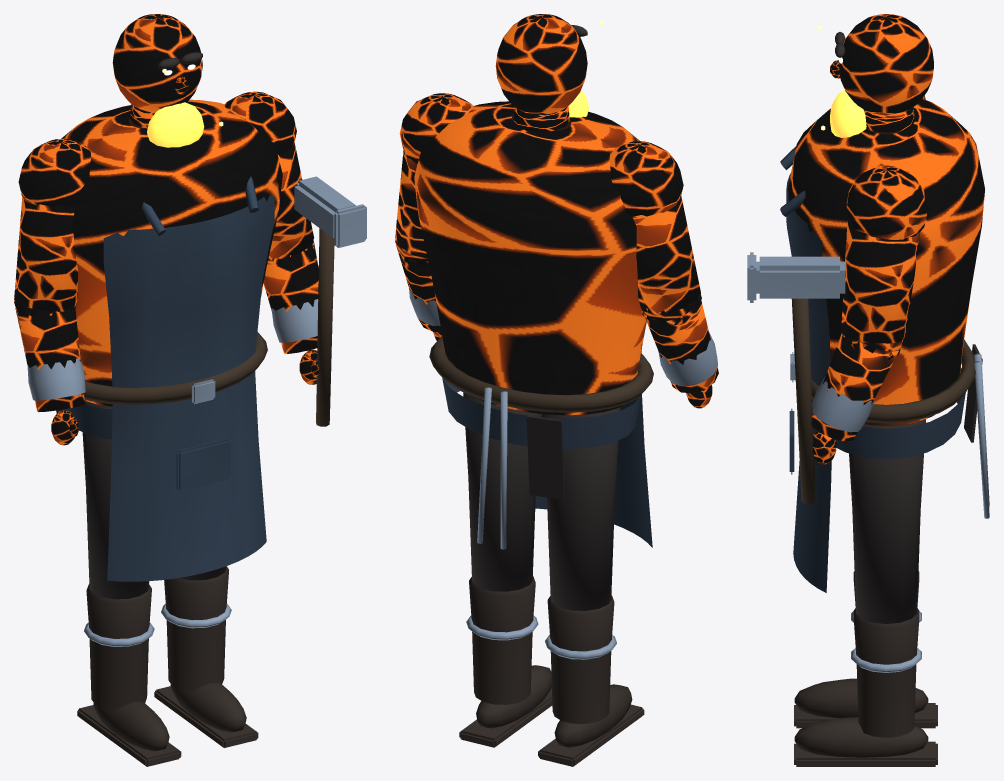
Rendered from forgemaster.glb.
The picture shows the model from 3 angles, left to right: view 1: azimuth 30°, elevation 25°; view 2: azimuth 150°, elevation 25°; view 3: azimuth 270°, elevation 25°; orthographic projection. The views are drawn at different scales.
Parts seen in each view (by area): view 1: Forgemaster_Root_BlueSteelLeather, Torso, ArmA_MagmaSkin, LegA_ForgeBoot, LegB_ForgeBoot, ArmB_MagmaSkin, Head_MagmaSkin, ArmB_BlueSteel, LegLegA, Belt, HammerHaft, Head_EmberBeard (+3 smaller); view 2: Torso, ArmA_MagmaSkin, LegLegA, LegA_ForgeBoot, LegB_ForgeBoot, LegLegB, Head_MagmaSkin, Forgemaster_Root_BlueSteelLeather, ArmB_MagmaSkin, Belt, Rag, Tail_BlueSteel (+4 smaller); view 3: Torso, ArmB_MagmaSkin, LegB_ForgeBoot, LegLegB, Forgemaster_Root_BlueSteelLeather, Head_MagmaSkin, ArmB_BlueSteel, LegA_ForgeBoot, HammerHaft, Belt, Head_EmberBeard, Tail_BlueSteel (+2 smaller).
Part boxes in pixels (box(x1,y1,x2,y2)): Forgemaster_Root_BlueSteelLeather: box(64, 176, 274, 581); Torso: box(61, 99, 282, 406); ArmA_MagmaSkin: box(14, 138, 90, 445); LegA_ForgeBoot: box(77, 584, 181, 766); LegB_ForgeBoot: box(154, 566, 258, 747); ArmB_MagmaSkin: box(224, 91, 318, 384); Head_MagmaSkin: box(112, 14, 202, 128); ArmB_BlueSteel: box(271, 176, 366, 342); LegLegA: box(82, 401, 149, 599); Belt: box(84, 332, 267, 404); HammerHaft: box(316, 228, 334, 426); Head_EmberBeard: box(147, 102, 204, 147); Torso: box(414, 101, 646, 415); ArmA_MagmaSkin: box(609, 141, 718, 408); LegLegA: box(542, 407, 620, 610); LegA_ForgeBoot: box(538, 595, 644, 766); LegB_ForgeBoot: box(459, 576, 552, 747); LegLegB: box(463, 392, 540, 591); Head_MagmaSkin: box(495, 14, 587, 132); Forgemaster_Root_BlueSteelLeather: box(442, 348, 652, 547); ArmB_MagmaSkin: box(395, 93, 473, 340); Belt: box(429, 336, 653, 412); Rag: box(526, 415, 564, 499); Tail_BlueSteel: box(477, 387, 507, 549); Torso: box(788, 98, 984, 425); ArmB_MagmaSkin: box(811, 165, 927, 464); LegB_ForgeBoot: box(794, 608, 937, 766); LegLegB: box(849, 419, 925, 623); Forgemaster_Root_BlueSteelLeather: box(780, 146, 965, 592); Head_MagmaSkin: box(830, 14, 933, 132); ArmB_BlueSteel: box(747, 252, 875, 432); LegA_ForgeBoot: box(794, 571, 937, 728); HammerHaft: box(791, 298, 816, 504); Belt: box(811, 339, 975, 423); Head_EmberBeard: box(830, 90, 866, 137); Tail_BlueSteel: box(974, 353, 989, 518).
Size of the model in its own units: 0.7616 by 1.74 by 0.531.
Materials: 9 (1 with a texture image).
